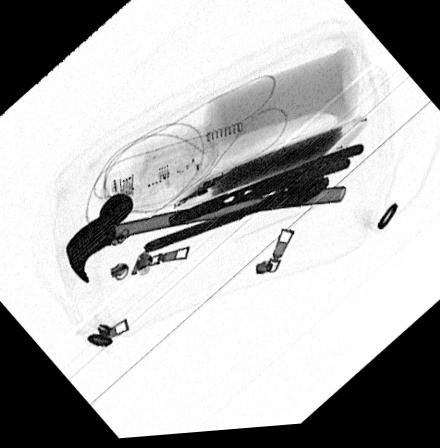Hammer: (64, 194, 344, 283)
Pliers: (168, 148, 363, 231)
Powerbank: (170, 119, 369, 211)
Wrench: (142, 178, 331, 256)
